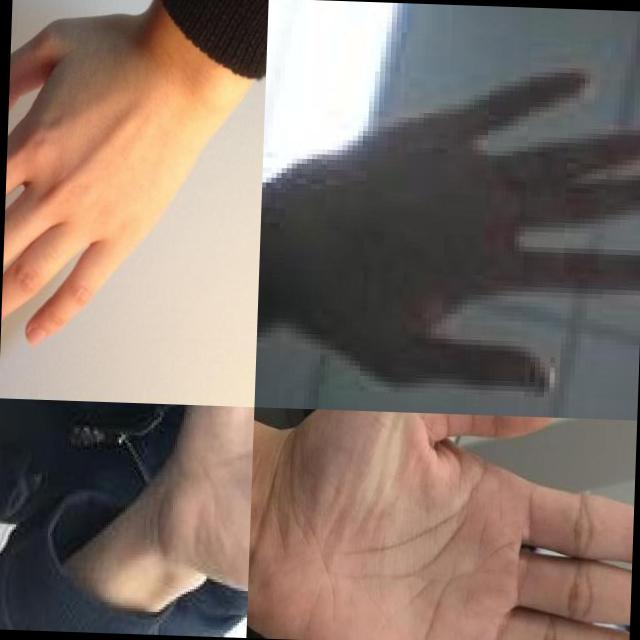Nail: (25, 326, 45, 345)
